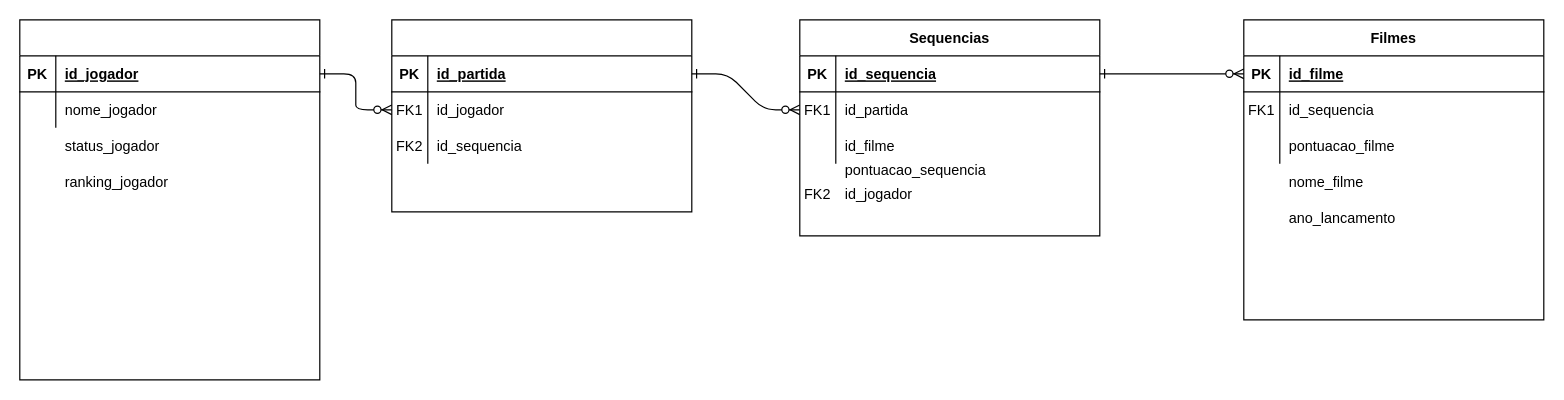
Some shapes in this 1564 by 400 pixel diagram are drawn without their labels. The shapes that lost their labels are listed below. From the top down, each one's box as (x1, y1, x2, y2) in pixels, then its label:
(391, 19, 692, 212): Partidas
(19, 19, 320, 380): Jogadores
